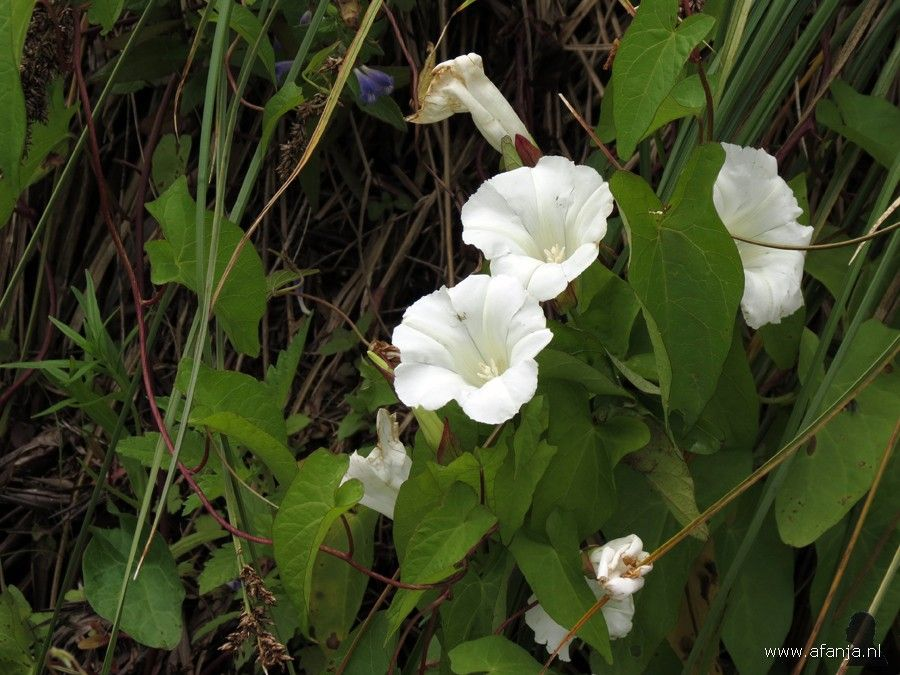haagwinde: (361, 140, 615, 445), (603, 152, 765, 440), (135, 165, 284, 367), (262, 426, 370, 635), (66, 495, 198, 655), (505, 514, 636, 671), (596, 3, 719, 158)
